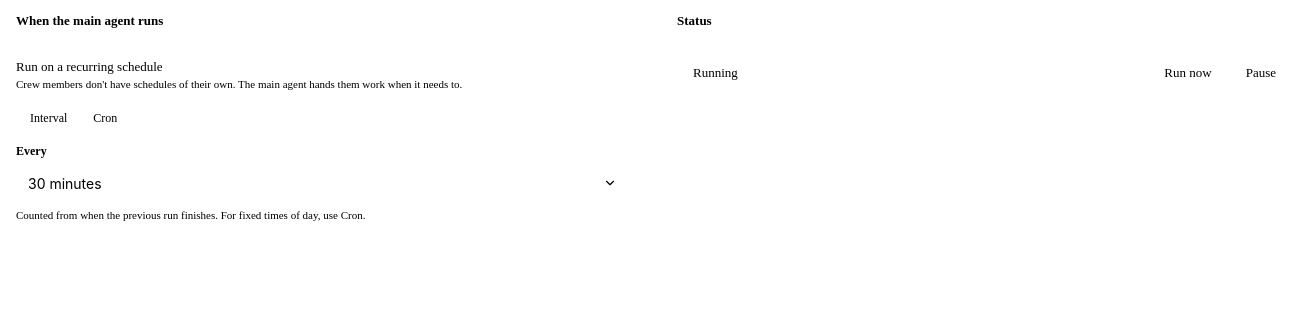
Test: SchedulePage › switches to cron in the host timezone, previews the next runs and validates the expression
Click the button "Cron": [105, 118] box [81,107,129,130]
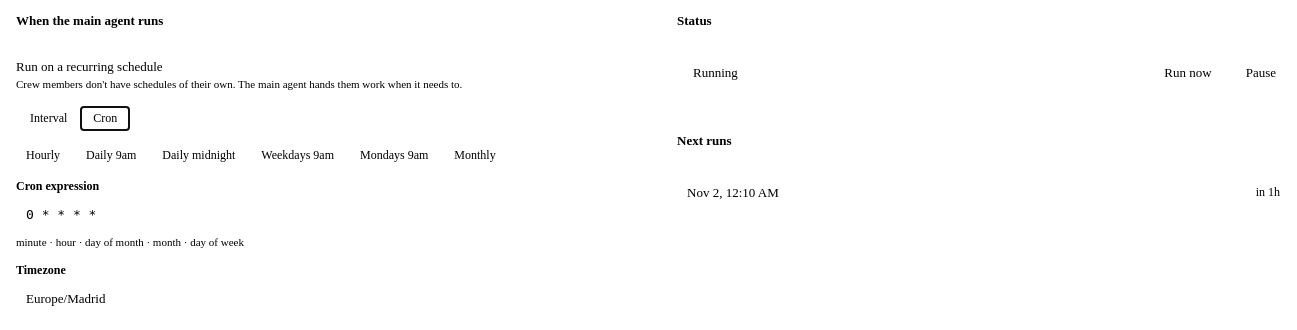
Expected: the field labelled "Timezone" holds "Europe/Madrid", [16,284,629,314]
Click the button "Weekdays 9am": [298, 155] box [251,144,344,167]
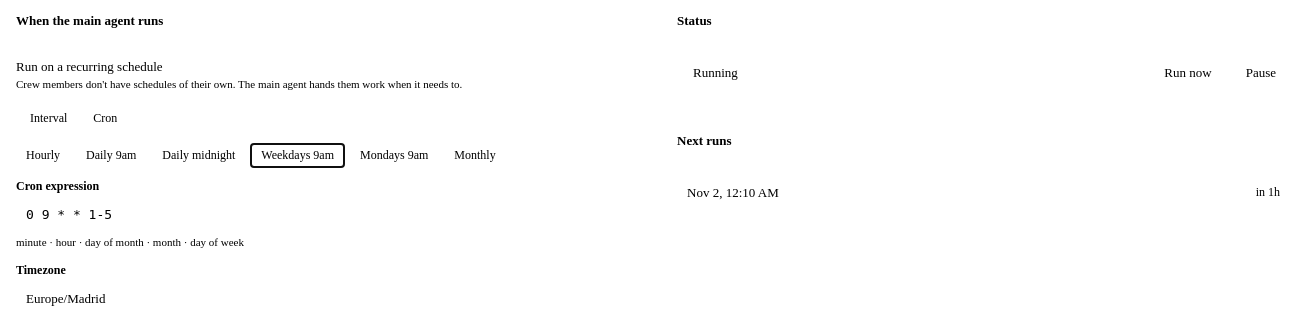
Expected: the text "in 1h" is shown, [1256,185,1280,201]
Expected: the field labelled "Cron expression" holds "0 9 * * 1-5"
Clear the field labelled "Cron expression": [322, 214] box [16,200,629,229]
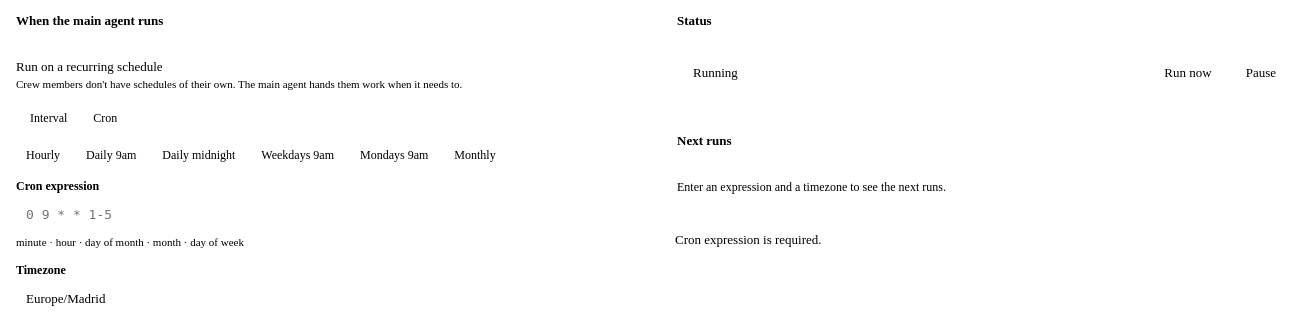
Expected: the message reads "Cron expression is required.", [675,232,822,247]
